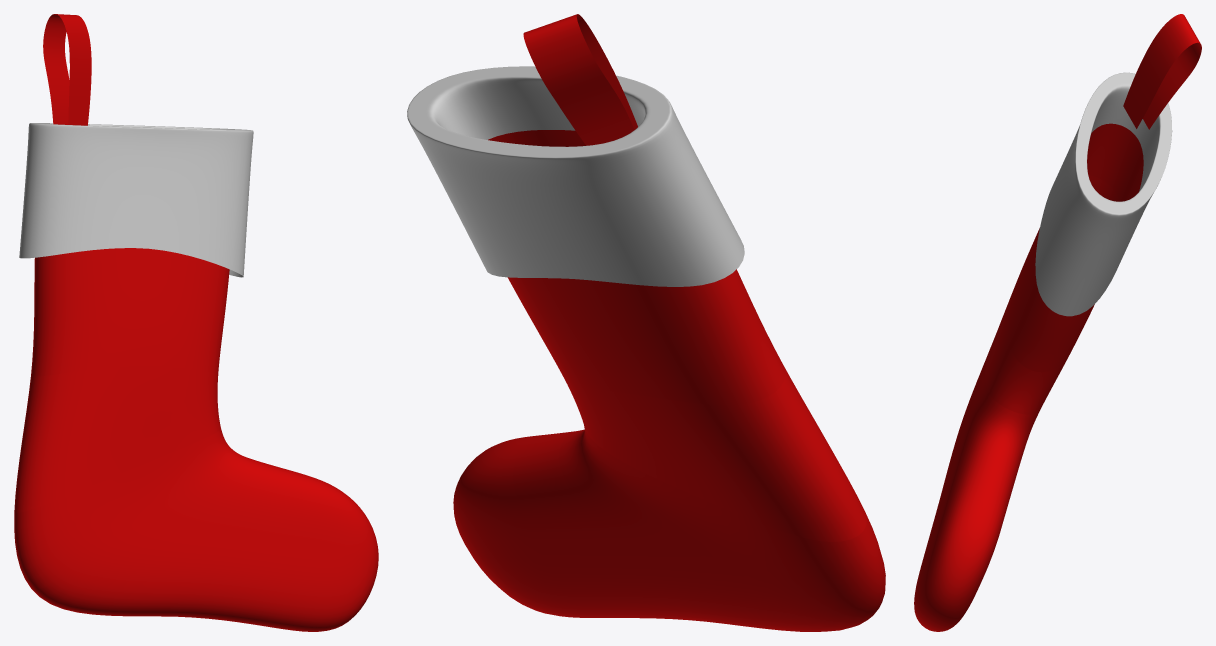
File: Socke.fbx
3 renders of one model, left to right at view 1: azimuth 30°, elevation 25°; view 2: azimuth 150°, elevation 25°; view 3: azimuth 270°, elevation 25°, orthographic. The views are drawn at different scales.
Visible parts, largest first — view 1: Plane_1, Cube; view 2: Plane_1, Cube; view 3: Plane_1, Cube.
Boxes of the visible parts, box(x1,y1,x2,y2) form: Plane_1: box(14, 14, 378, 631); Cube: box(19, 123, 253, 277); Plane_1: box(453, 14, 885, 631); Cube: box(407, 66, 744, 286); Plane_1: box(914, 14, 1201, 631); Cube: box(1035, 72, 1172, 316).
Bounding box in the file's own units: 493 × 794 × 381.
